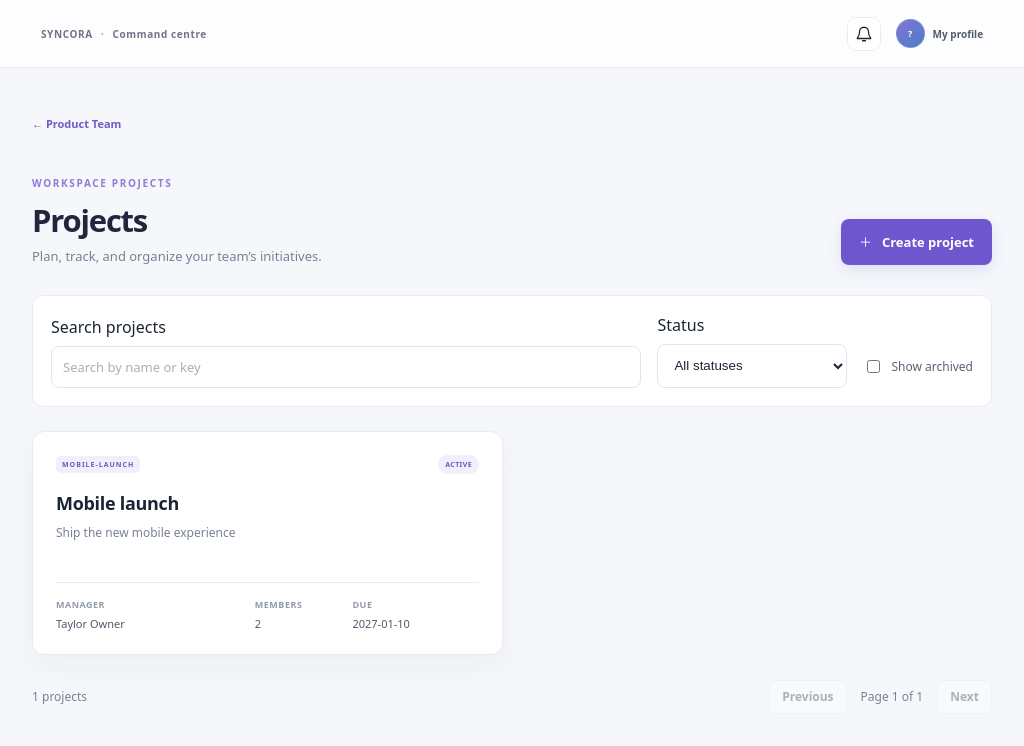
Test: project pages › creates a project with validated form data
The width and height of the screenshot is (1024, 746).
Click the button "＋ Create project" at (916,242), box [841, 219, 992, 265]
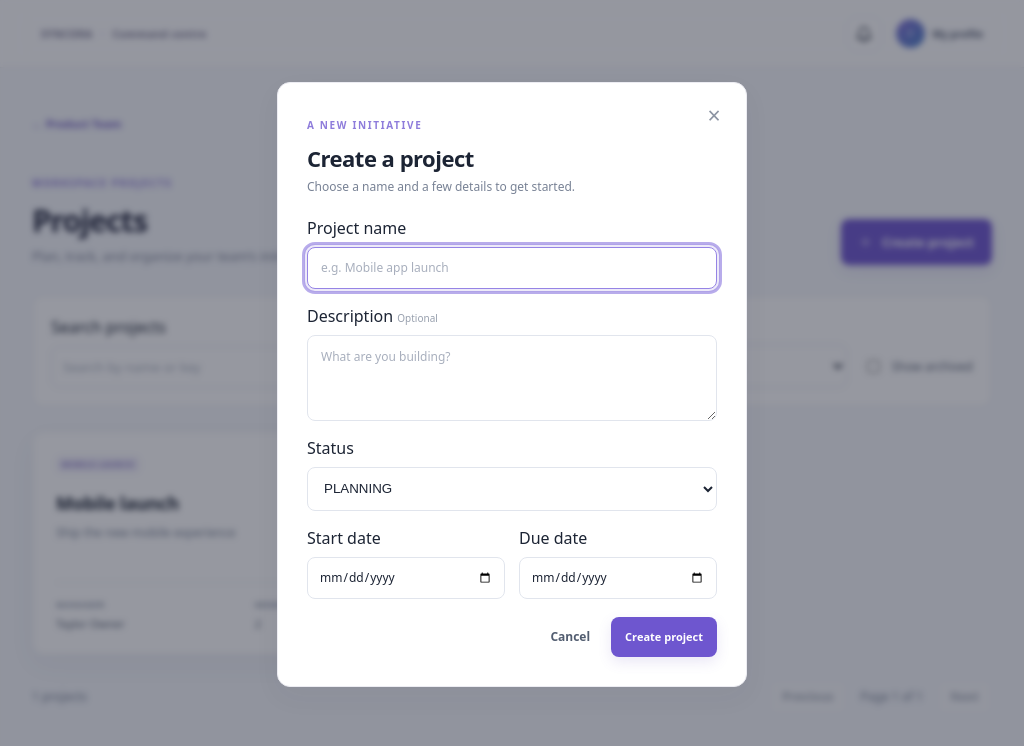
Type "New initiative" into the field labelled "Project name" at (512,268), box [307, 246, 717, 288]
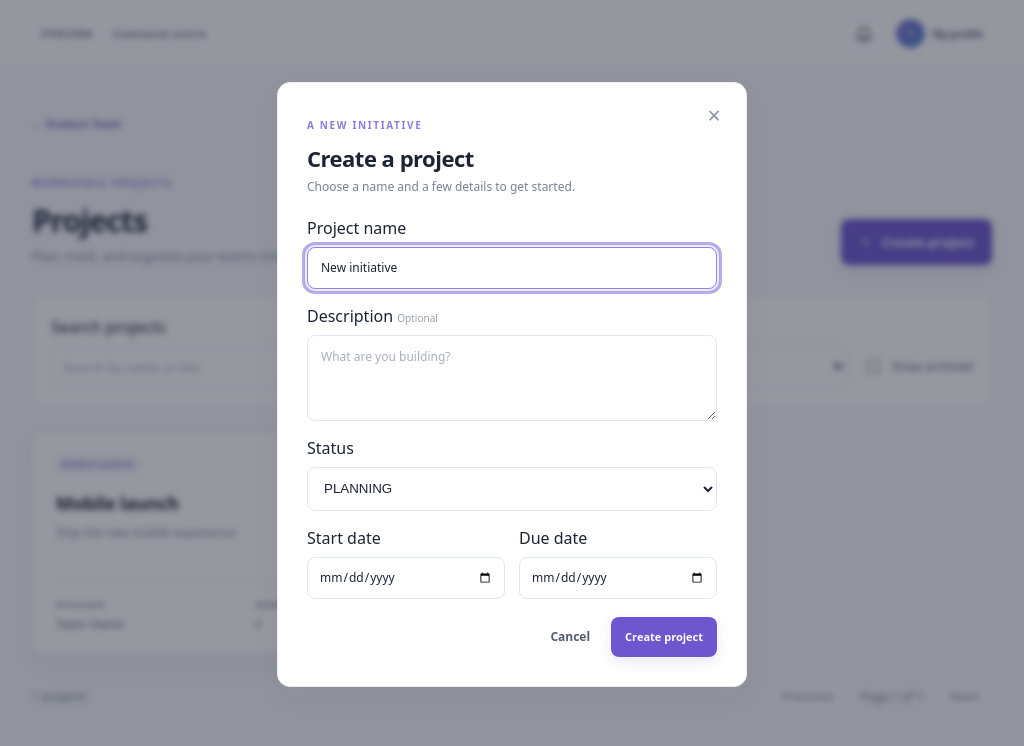
Type "A new project" into the text box labelled "Description Optional" at (512,378), box [307, 334, 717, 420]
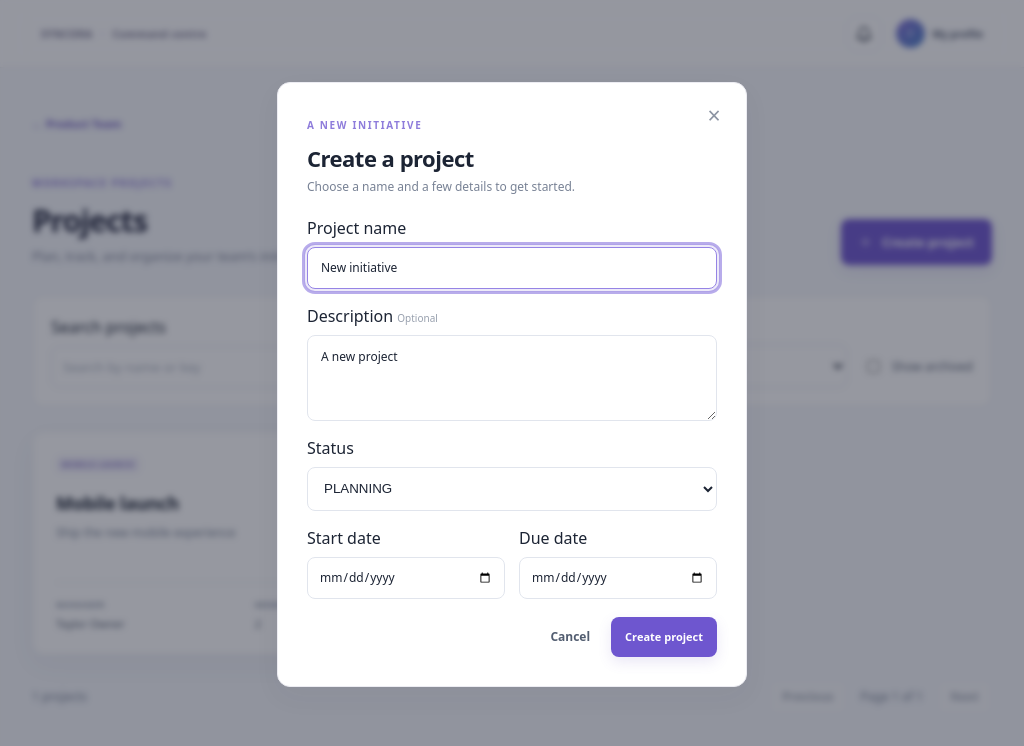
Click the button "Create project" at (664,636), box [611, 616, 717, 656]
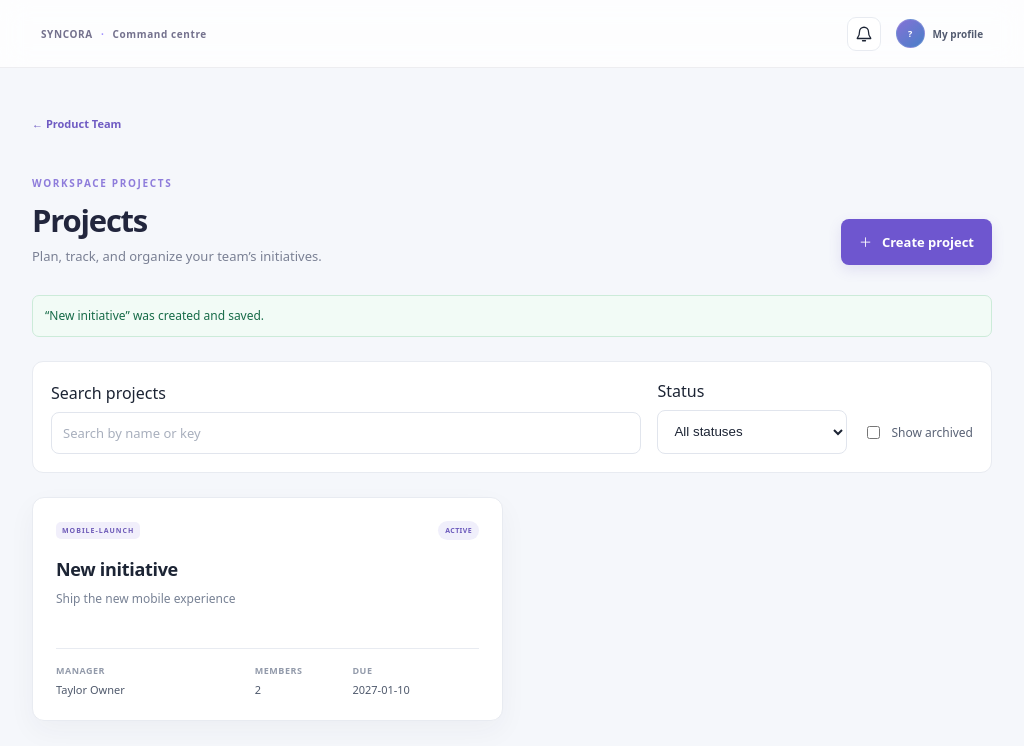
Now the text "“New initiative” was created and saved." is shown, box [32, 295, 992, 337]
